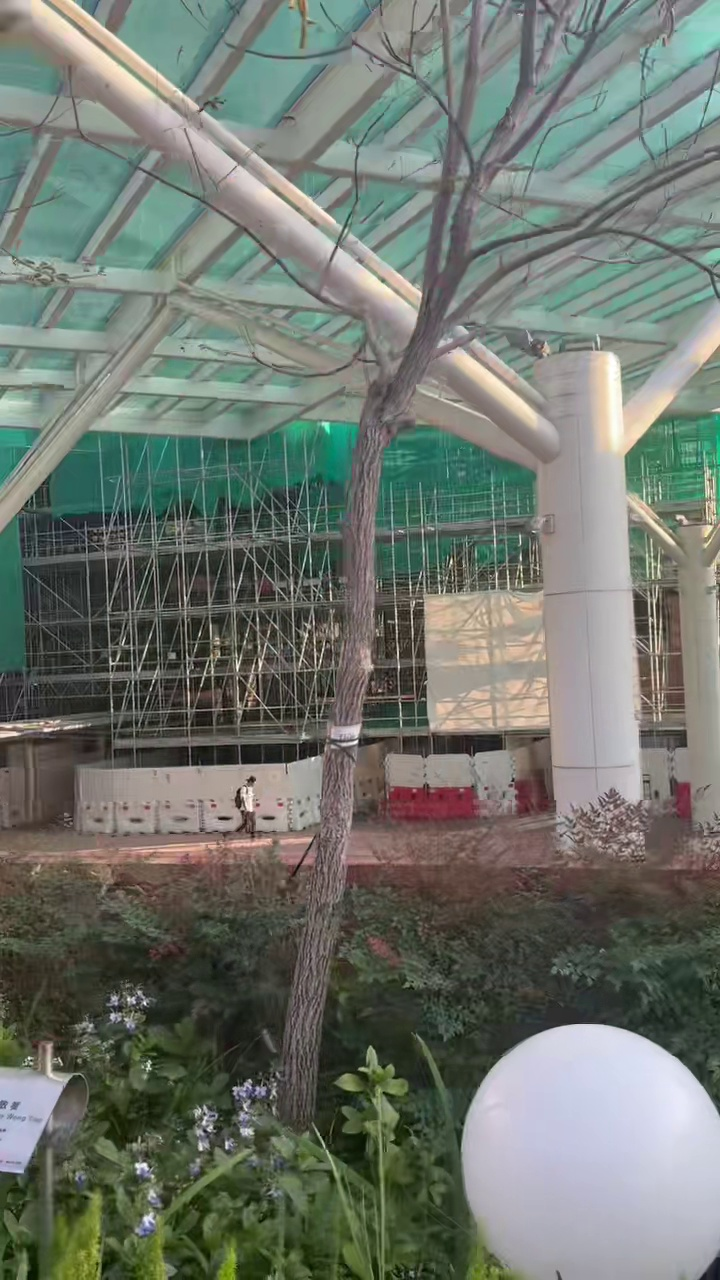Tabebuia chrysantha: (281, 0, 666, 1127)
